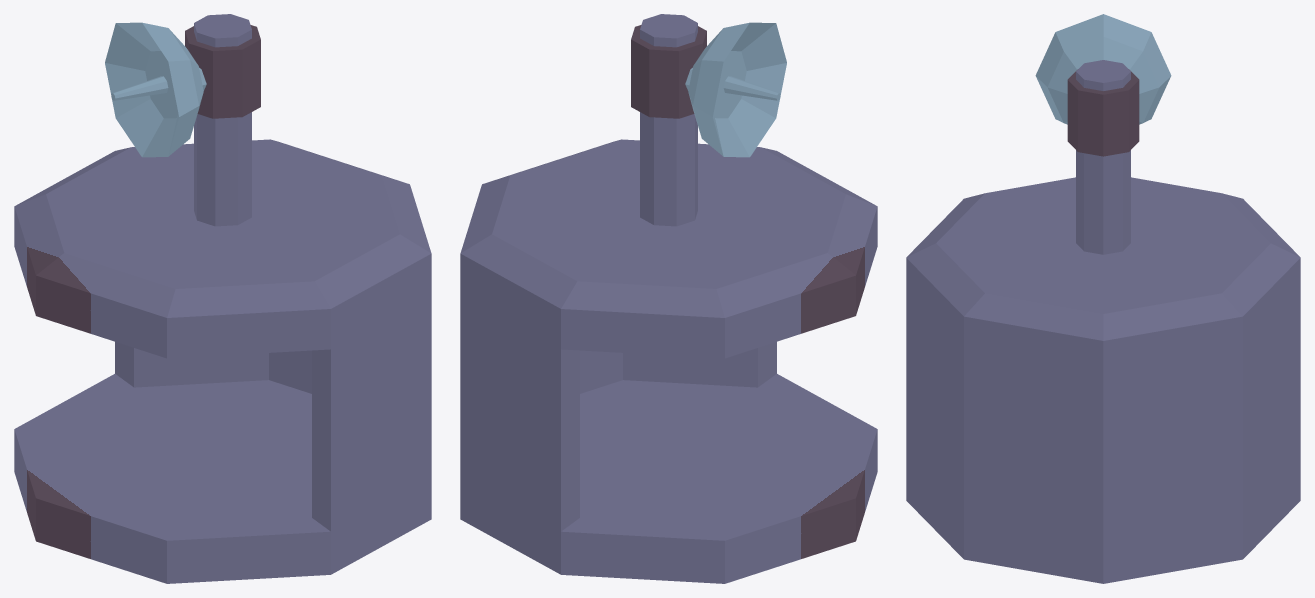
File: TankBaseModel.glb
3 views of the same model, side by side, from view 1: azimuth 30°, elevation 25°; view 2: azimuth 150°, elevation 25°; view 3: azimuth 270°, elevation 25° (orthographic). The views are drawn at different scales.
Visible parts, largest first — view 1: Cylinder.017; view 2: Cylinder.017; view 3: Cylinder.017.
Part boxes in pixels (x1,y1,x2,y2): Cylinder.017: (14, 14, 431, 583); Cylinder.017: (460, 14, 877, 583); Cylinder.017: (906, 14, 1300, 583).
Bounding box in the file's own units: 6.1 × 7.69 × 6.1.
1 material, 1 textured.
